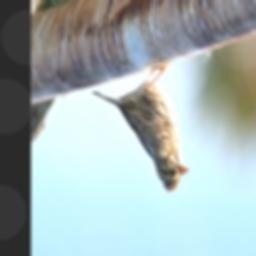Sparrow: (91, 64, 190, 194)
